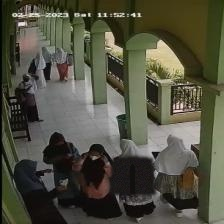Cadar_Niqab: (109, 138, 155, 194)
